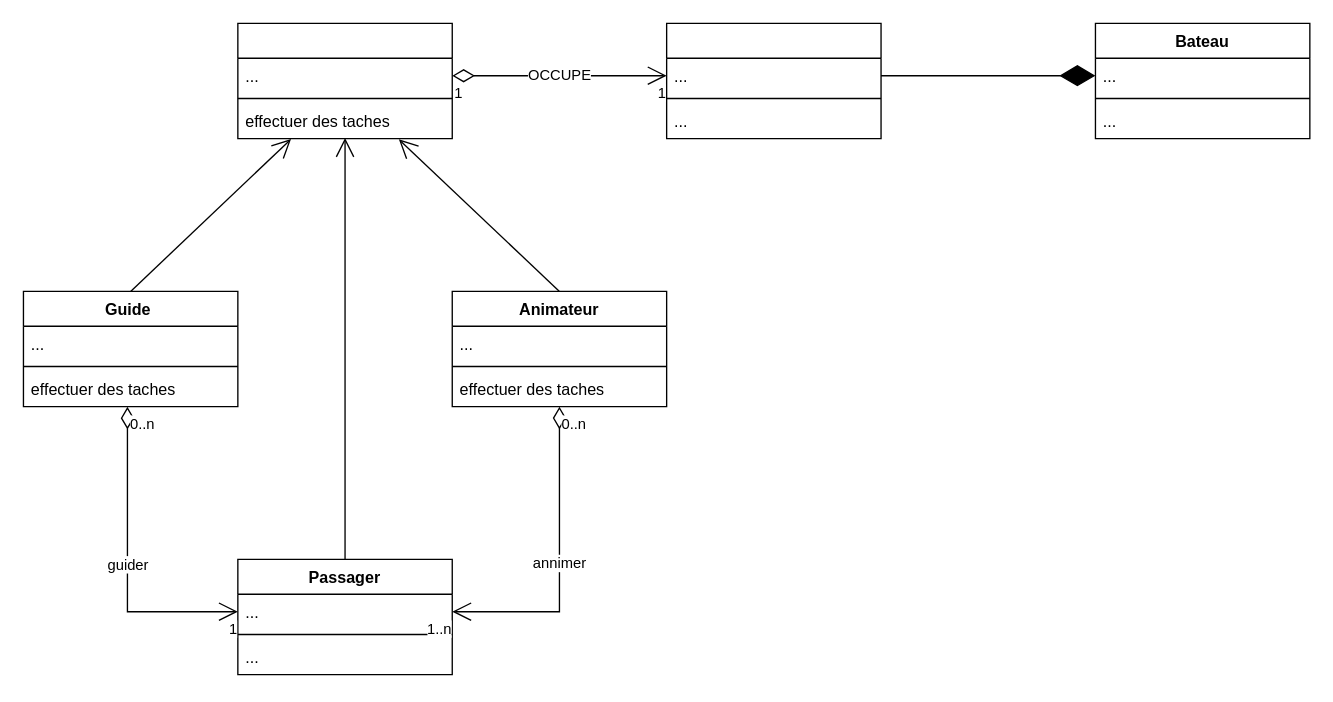
This 1333x702 diagram has some shape labels left out. Here are the shapes that lost their labels. From the top down, the box of each, then its label:
(237, 22, 452, 139): Personne
(665, 22, 881, 139): Cabine
